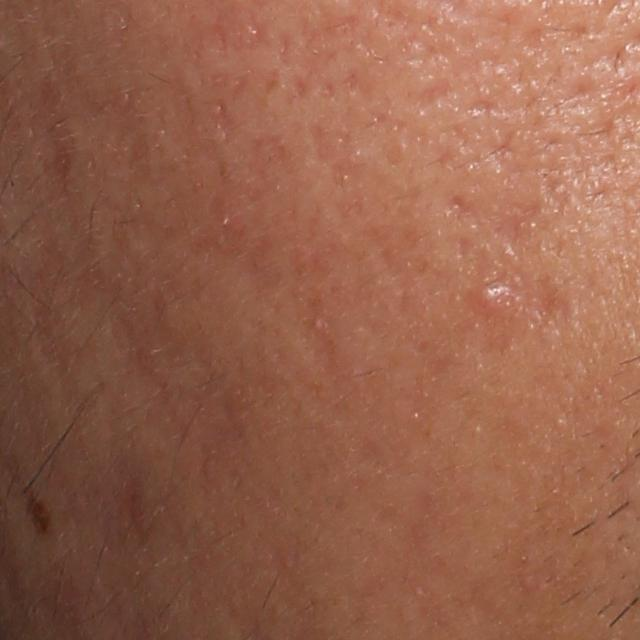nevus: (23, 486, 59, 541)
papule: (476, 281, 512, 313)
